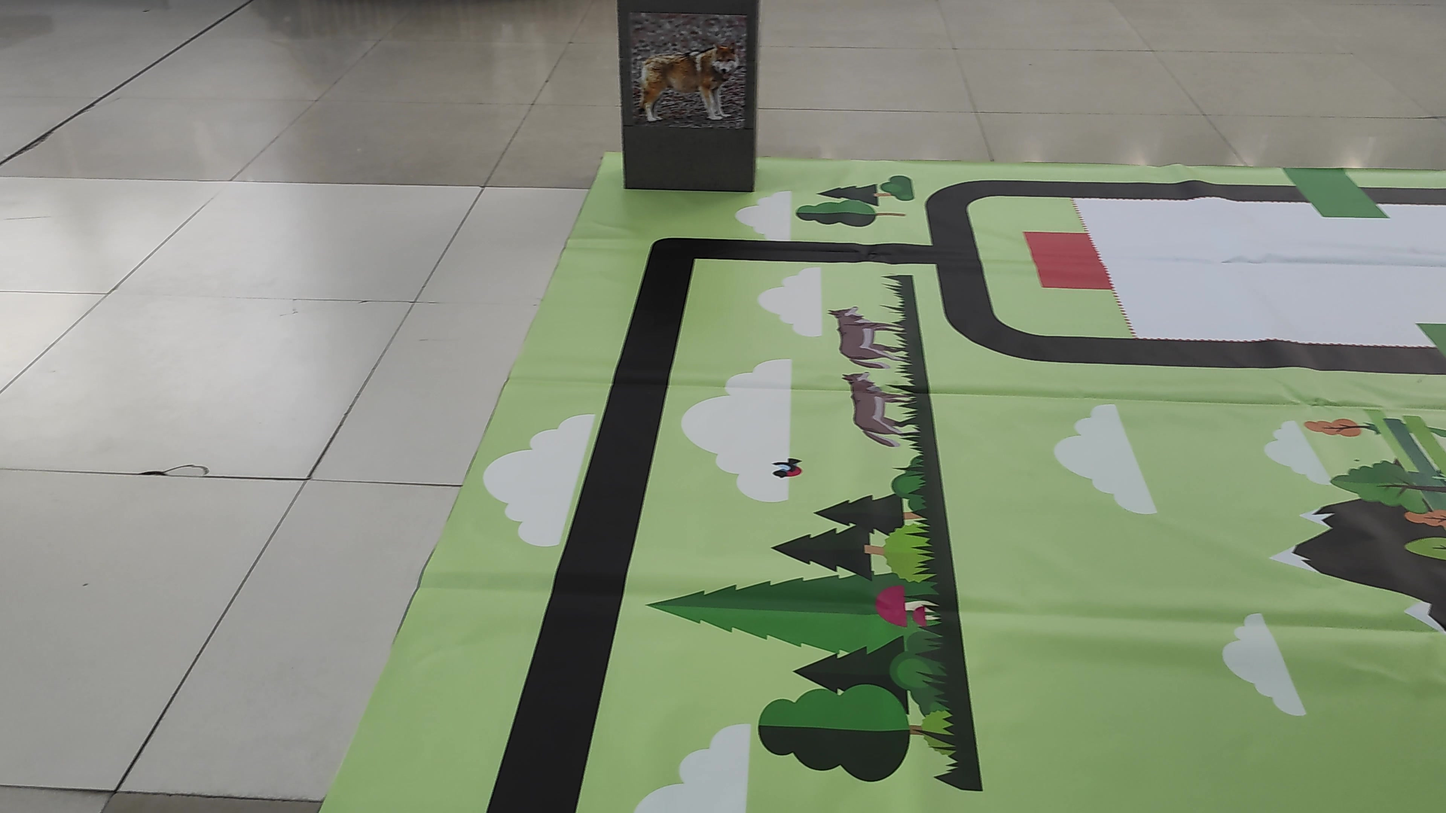wolf: (633, 23, 743, 123)
